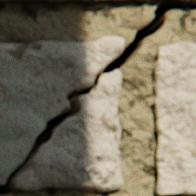brick: (151, 43, 195, 195), (0, 0, 162, 6), (169, 0, 195, 5)
broken_brick: (0, 37, 123, 183), (11, 71, 121, 191)
crack: (0, 0, 195, 195)
